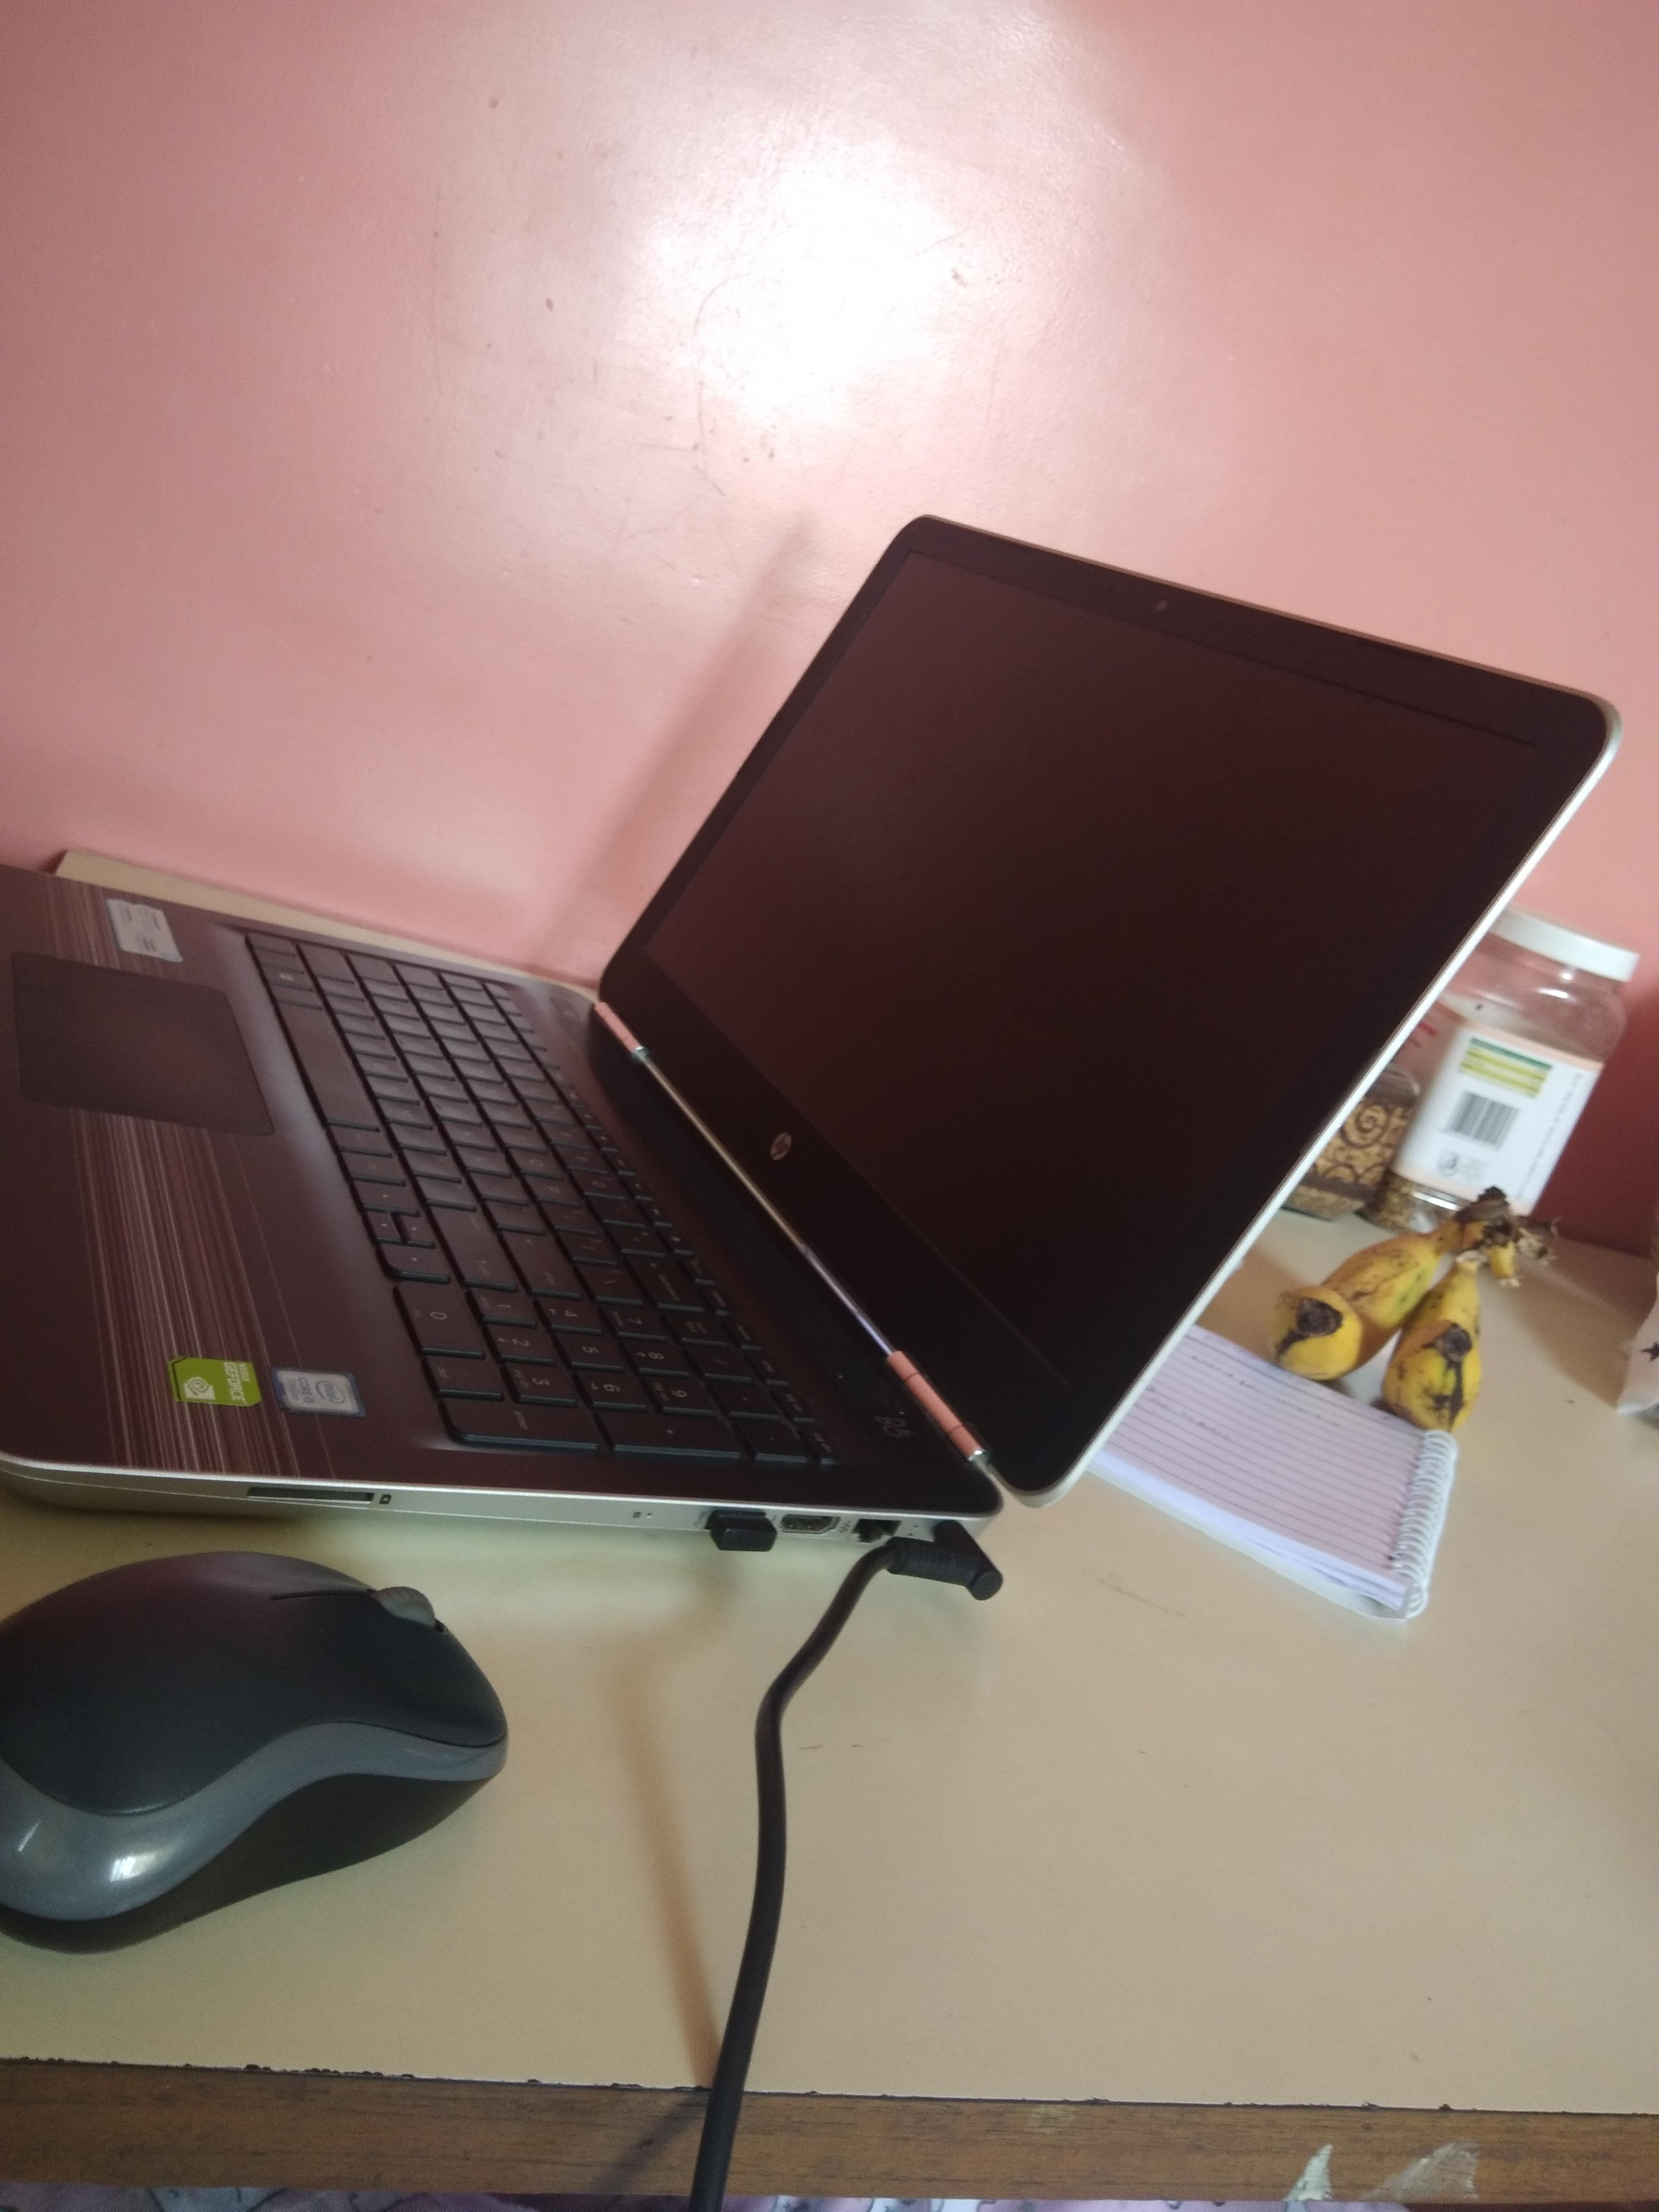laptop: (0, 451, 1643, 1569)
mouse: (0, 1545, 549, 1984)
